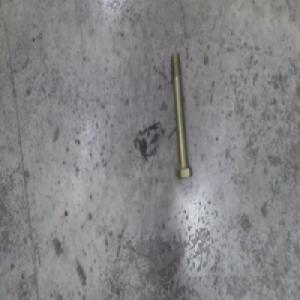Bolt: (167, 52, 192, 178)
